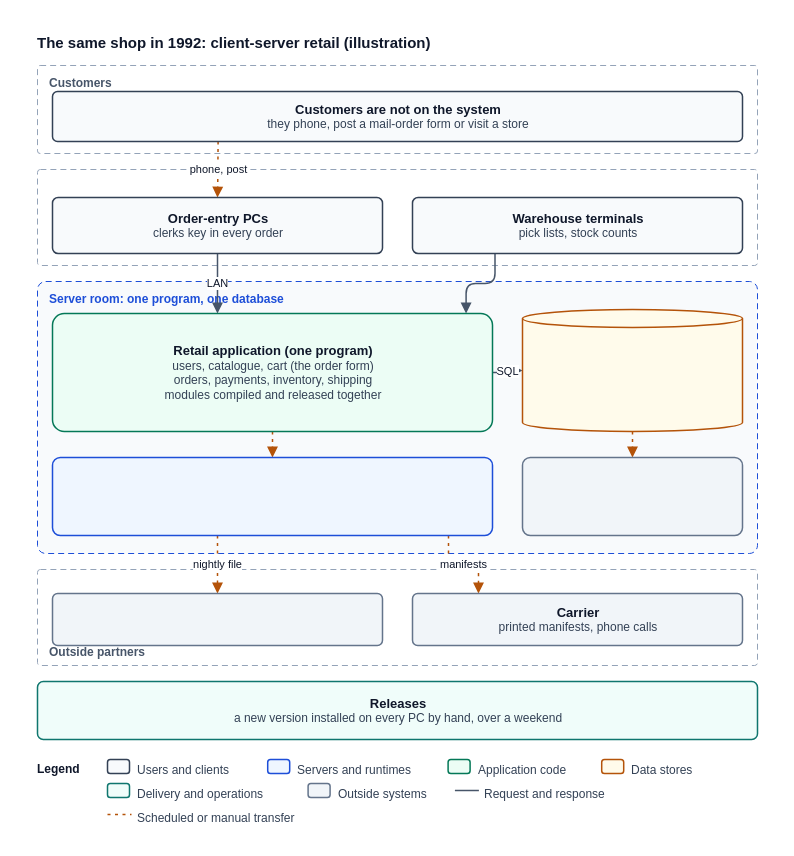
This 794x856 diagram has some shape labels left out. Each missing label, with the box of its shape:
Card processor batch file or dial-up line: (51, 592, 383, 646)
Entry point: (36, 168, 758, 266)
Overnight batch settle card payments, reorder stock, print manifests: (51, 456, 493, 536)
Relational DB Oracle or DB2 one schema, all modules: (521, 308, 743, 432)
Tape backup nightly, offsite weekly: (521, 456, 743, 536)
